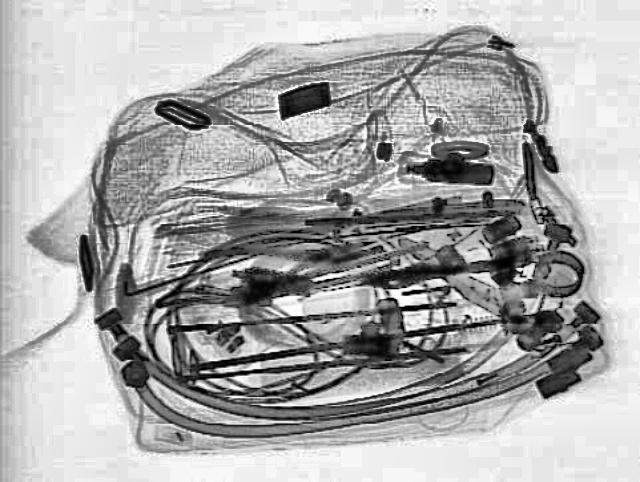Pliers: (198, 223, 358, 298)
